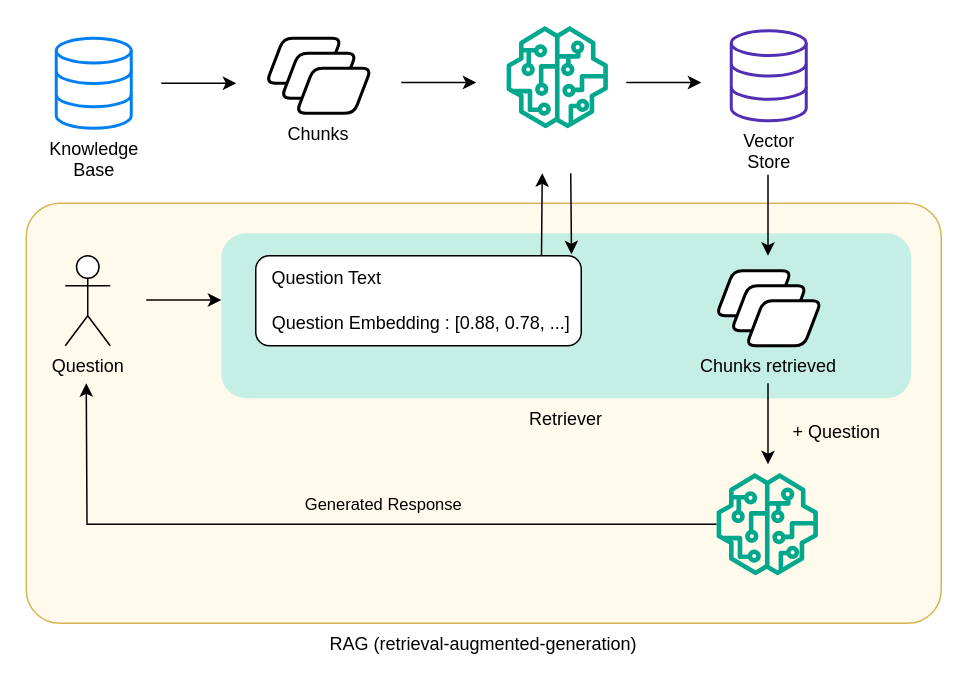
Some shapes in this 968 by 680 pixel diagram are drawn without their labels. Each missing label, with the centre of its shape:
Embedding: the point at 557,77
LLM: the point at 767,523
